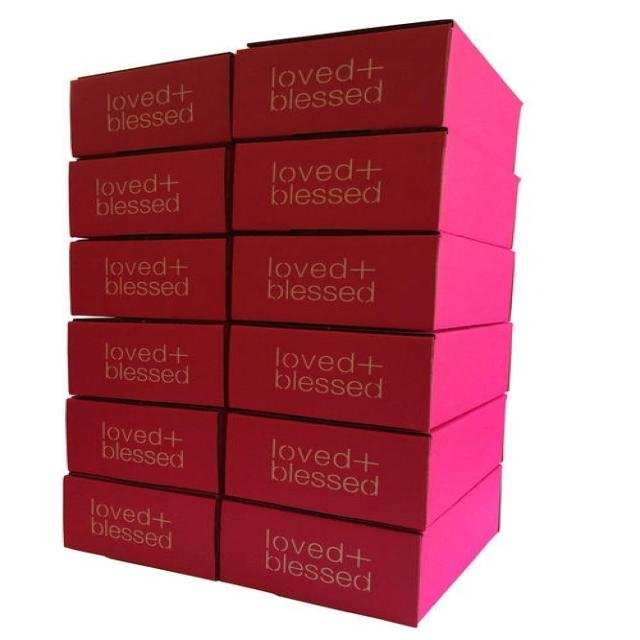box: (219, 462, 503, 628), (233, 18, 525, 173), (221, 392, 509, 531), (233, 126, 521, 249), (227, 322, 512, 432), (227, 230, 516, 331), (70, 51, 236, 159), (63, 472, 221, 581), (65, 396, 225, 495), (68, 148, 233, 239), (69, 318, 227, 409), (69, 235, 228, 321)
